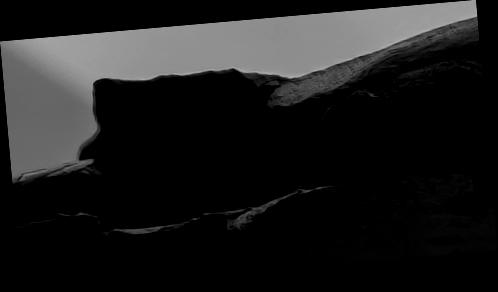crack: (1, 0, 498, 292)
